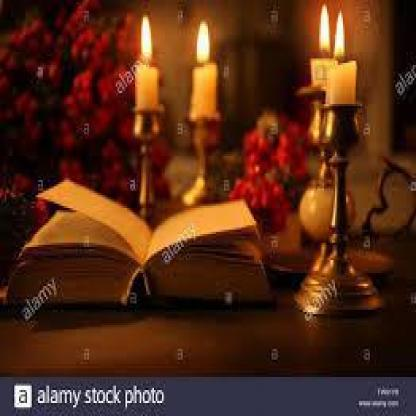fire: (314, 0, 351, 61), (131, 11, 162, 65), (190, 14, 216, 66)
